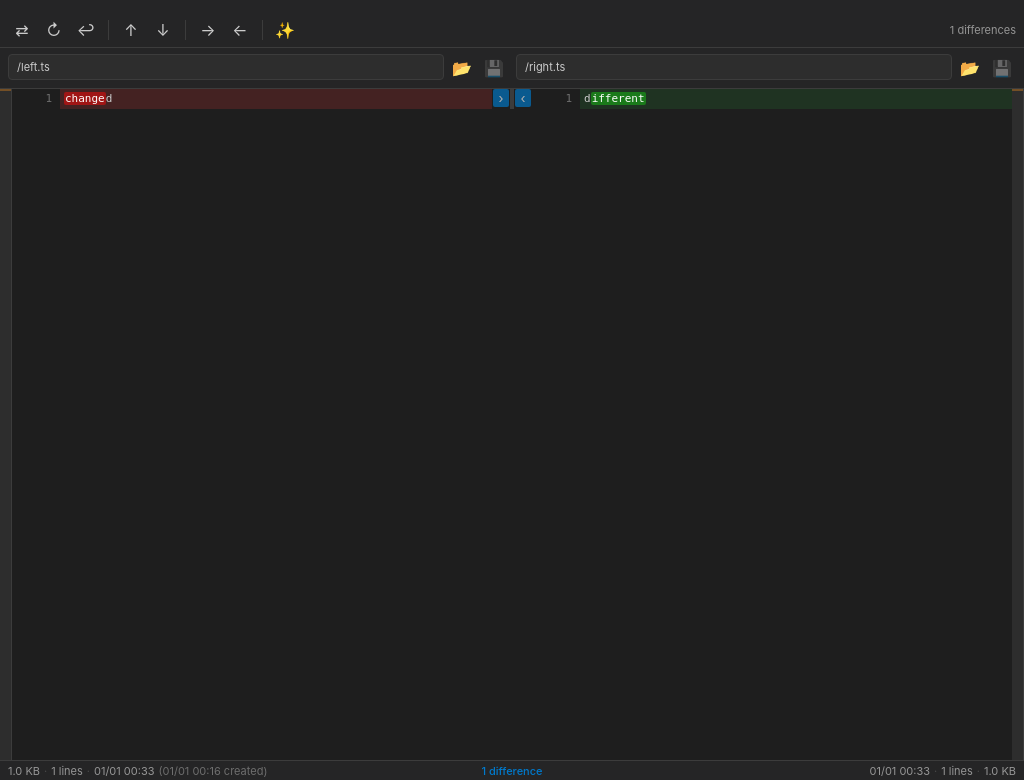
it: FileDiffView — row selection › clear-selection button removes selection
Expected: the element with class "fd-diff-modified" showing "1 changed" is shown, left=12, top=89, right=492, bottom=109
Click the text with class "fd-line-no" next to "change" at (49, 98), box left=45, top=92, right=52, bottom=105
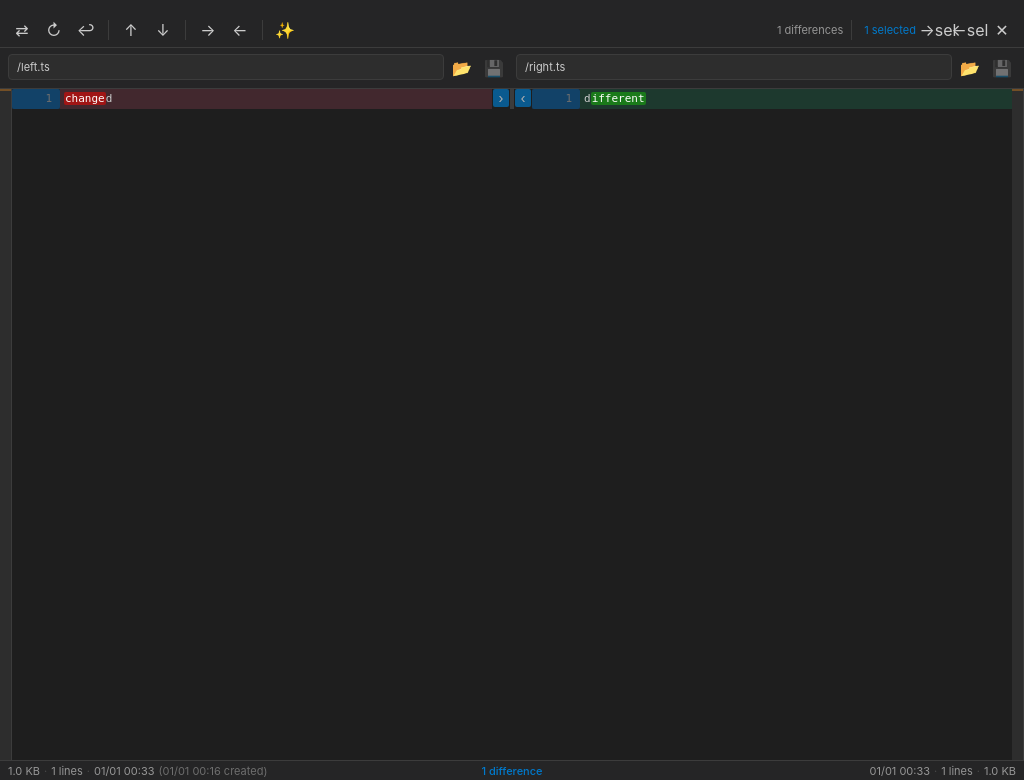
Expected: the text "1 selected" is shown, left=860, top=22, right=920, bottom=36
Click the button "✕" at (1002, 30), box left=988, top=16, right=1016, bottom=44
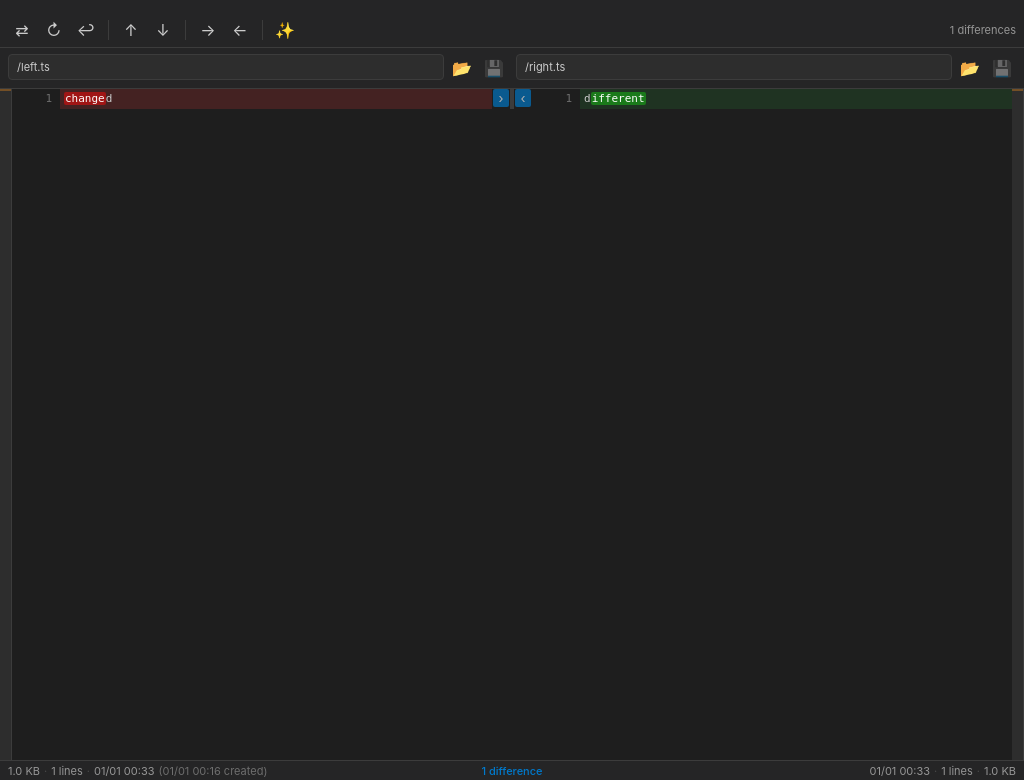
Expected: the text with class "fd-sel-count" is gone
